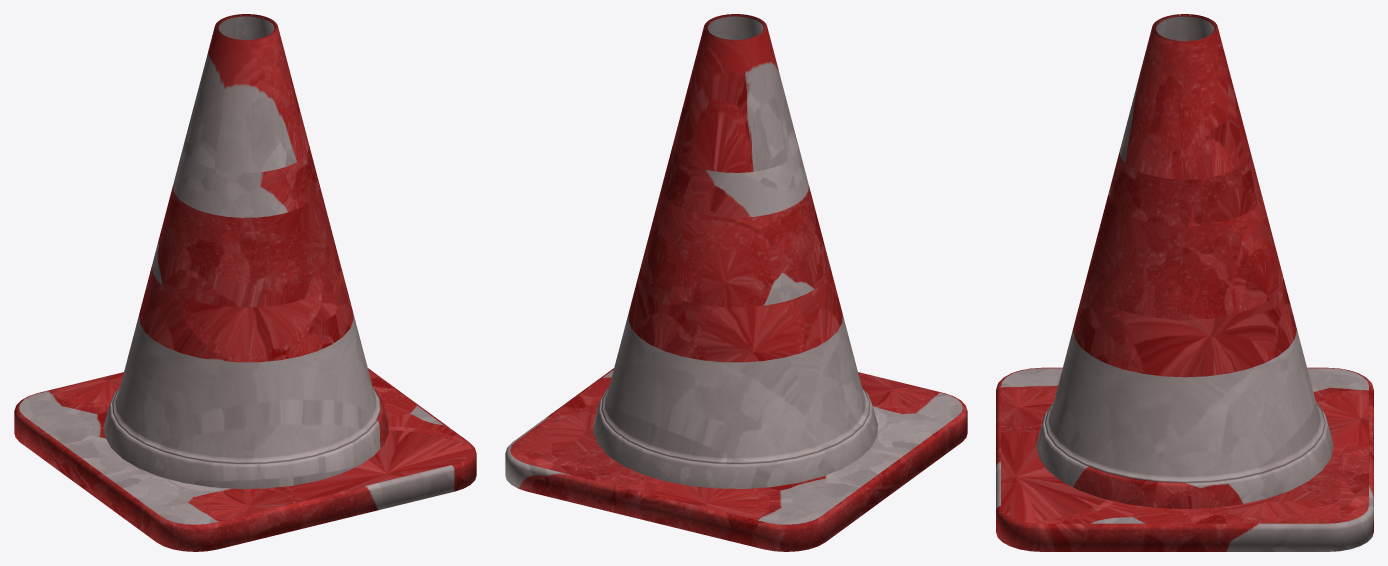
Rendered from Cono.fbx.
3 renders of one model, left to right at view 1: azimuth 30°, elevation 25°; view 2: azimuth 150°, elevation 25°; view 3: azimuth 270°, elevation 25°, orthographic. The views are drawn at different scales.
Parts seen in each view (by area): view 1: Cono; view 2: Cono; view 3: Cono.
Part boxes in pixels (x1,y1,x2,y2): Cono: [14, 14, 476, 551]; Cono: [505, 14, 967, 551]; Cono: [996, 14, 1373, 551].
Size of the model in its own units: 467 by 606 by 467.
